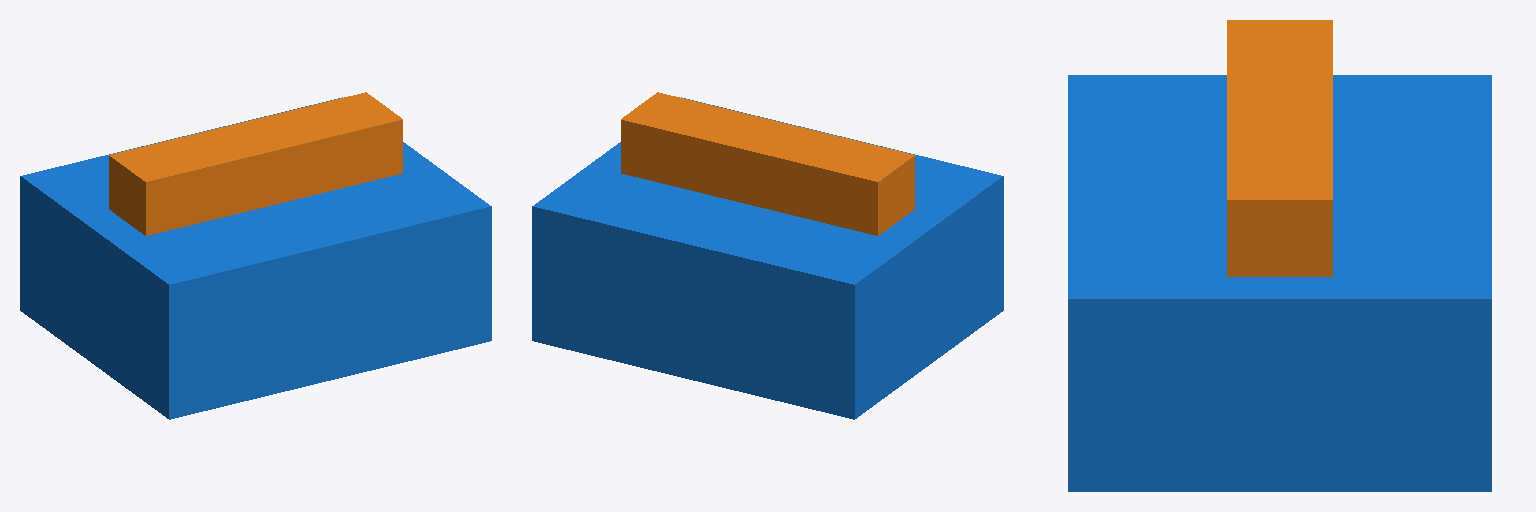
URDF robot description (joint_prismatic_basic):
<?xml version="1.0"?>
<robot name="joint_prismatic_basic">
    <material name="blue">
        <color rgba="0.15 0.55 0.90 1.0"/>
    </material>
    <material name="orange">
        <color rgba="0.95 0.55 0.15 1.0"/>
    </material>

    <!-- 底座 -->
    <link name="base_link">
        <visual>
            <origin xyz="0 0 0.1"/>
            <geometry>
                <box size="0.5 0.4 0.2"/>
            </geometry>
            <material name="blue"/>
        </visual>
    </link>

    <!-- 滑杆 -->
    <link name="slider_link">
        <visual>
            <origin xyz="0 0 0.04"/>
            <geometry>
                <box size="0.4 0.10 0.08"/>
            </geometry>
            <material name="orange"/>
        </visual>
    </link>

    <!-- 移动关节 -->
    <joint name="slider_joint" type="prismatic">
        <parent link="base_link"/>
        <child link="slider_link"/>
        <origin xyz="0 0 0.2"/>
        <axis xyz="1 0 0"/>
        <limit lower="0.0" upper="0.3"
               effort="20.0" velocity="0.2"/>
    </joint>
</robot>

--- Facts derived from the render (not from the file) ---
Views: 3 orthographic renders of the robot side by side, from view 1: azimuth 30°, elevation 25°; view 2: azimuth 150°, elevation 25°; view 3: azimuth 270°, elevation 25°.
Robot: joint_prismatic_basic — 2 links, 1 joints (1 prismatic); root link base_link; default pose: every joint at zero.
Visible links, largest first — view 1: base_link, slider_link; view 2: base_link, slider_link; view 3: base_link, slider_link.
Link boxes in pixels (left/top/right/bottom): base_link: left=20, top=97, right=491, bottom=419; slider_link: left=109, top=92, right=402, bottom=235; base_link: left=532, top=97, right=1003, bottom=419; slider_link: left=621, top=92, right=914, bottom=235; base_link: left=1068, top=75, right=1491, bottom=491; slider_link: left=1227, top=20, right=1332, bottom=276.
Bounding box of the posed robot: 0.5 × 0.4 × 0.28 m (x, y, z).
Geometry: primitives only (box / cylinder / sphere), no mesh files.
